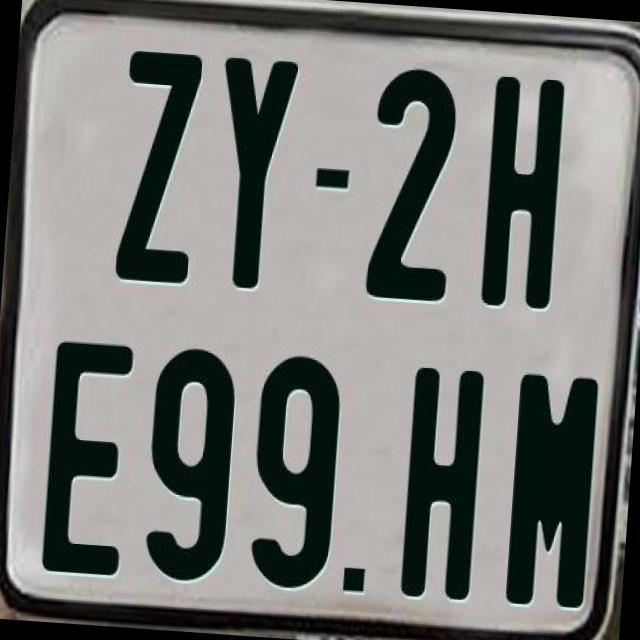2: (364, 61, 464, 297)
9: (138, 340, 240, 580), (244, 352, 342, 594)
E: (36, 338, 132, 577)
H: (476, 74, 566, 314), (397, 362, 482, 599)
M: (502, 368, 604, 610)
Y: (208, 53, 302, 295)
Z: (115, 45, 209, 287)
